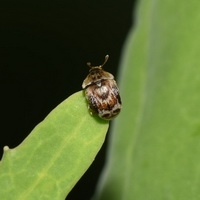insect: (82, 55, 121, 119)
